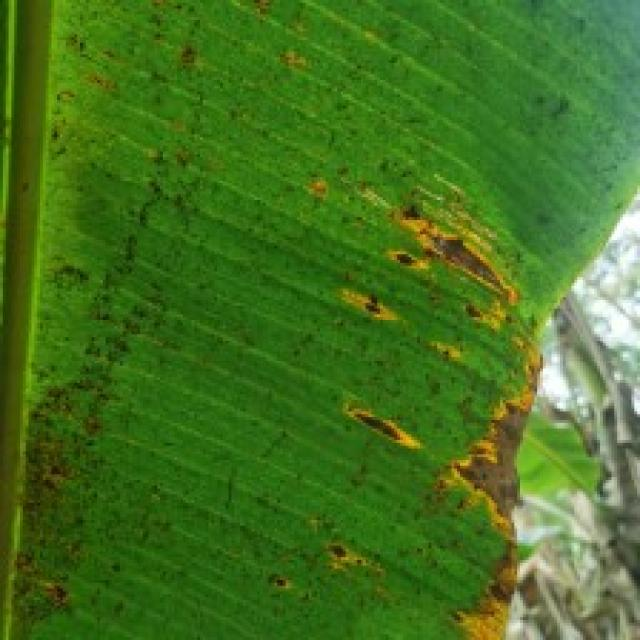Downey_mildrew: (0, 24, 236, 640), (296, 129, 561, 640)
